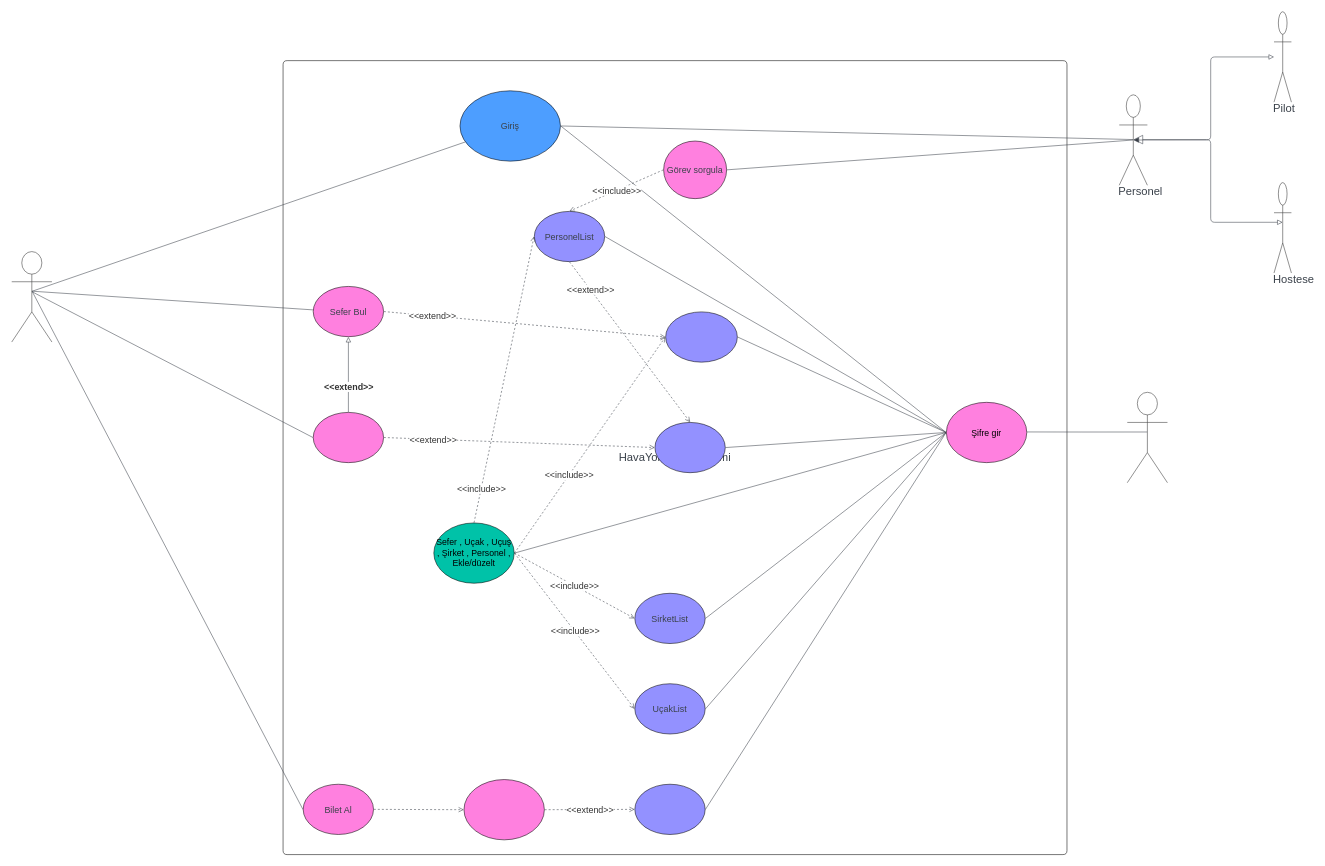
Some shapes in this 1325 by 866 pixel diagram are drawn without their labels. Each missing label, with the centre of its shape:
SeferList: point (701, 336)
Uçuş Seç: point (348, 437)
UçuşList: point (689, 447)
Yolcu: point (31, 296)
YolucList: point (669, 809)
Yönetici: point (1147, 437)
Ödeme yap: point (503, 809)
